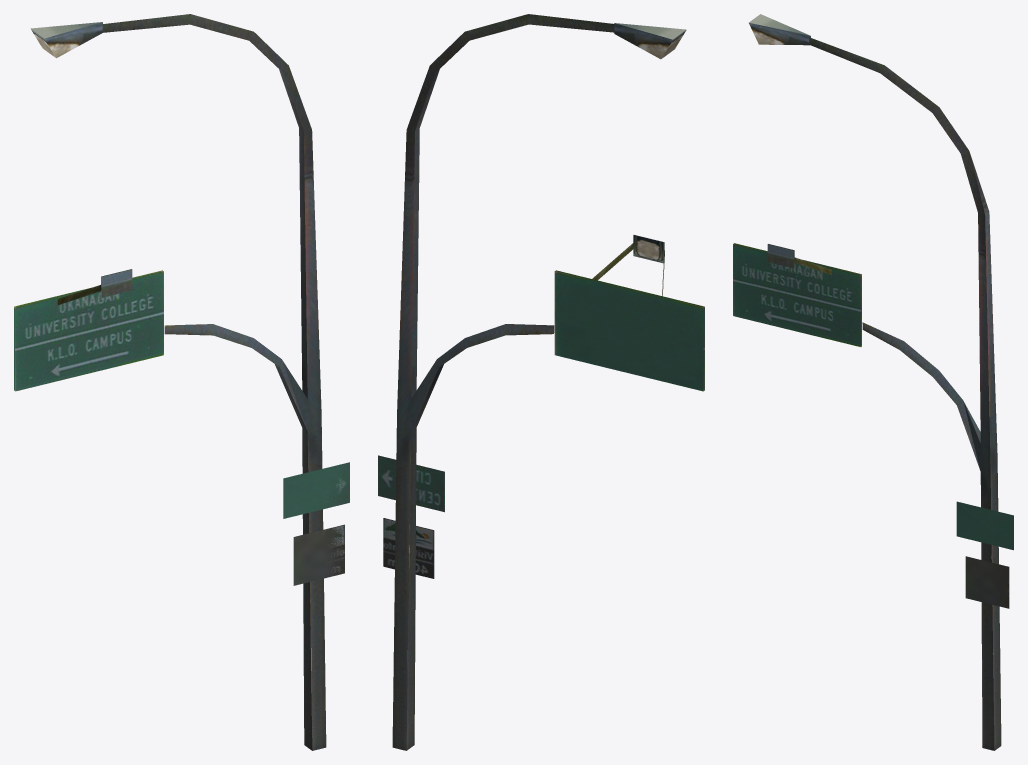
File: lamp.05.withsign.lod0.obj
3 views of the same model, side by side, from view 1: azimuth 30°, elevation 25°; view 2: azimuth 150°, elevation 25°; view 3: azimuth 330°, elevation 25° (orthographic). The views are drawn at different scales.
Parts seen in each view (by area): view 1: lampanneauvertlowress01; view 2: lampanneauvertlowress01; view 3: lampanneauvertlowress01.
Boxes of the visible parts, x1,y1,x2,y2 form: lampanneauvertlowress01: (14, 14, 349, 750); lampanneauvertlowress01: (378, 14, 704, 750); lampanneauvertlowress01: (733, 14, 1013, 750).
Bounding box in the file's own units: 2791 × 6286 × 458.
Materials: 1 (1 with a texture image).
